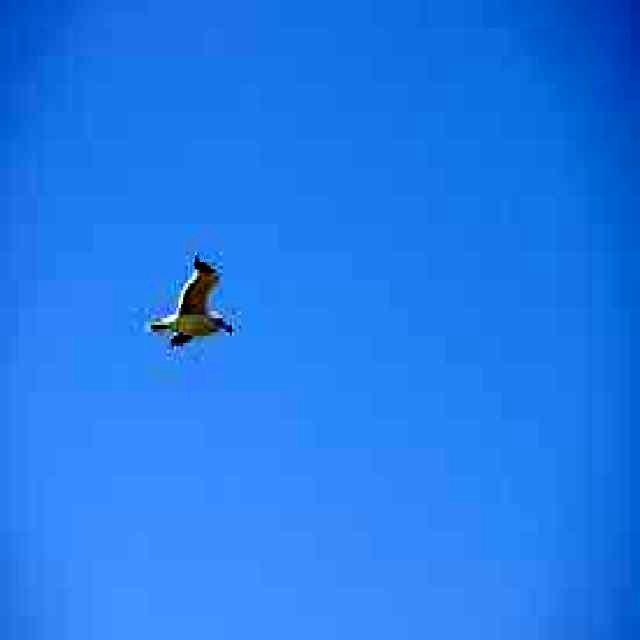bird: (136, 248, 238, 354)
